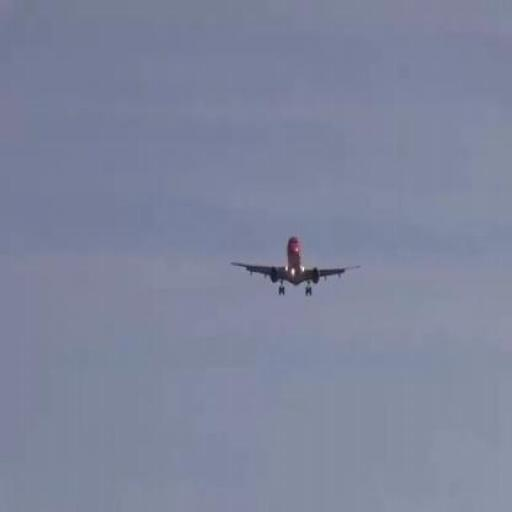aircraft: (232, 235, 360, 294)
